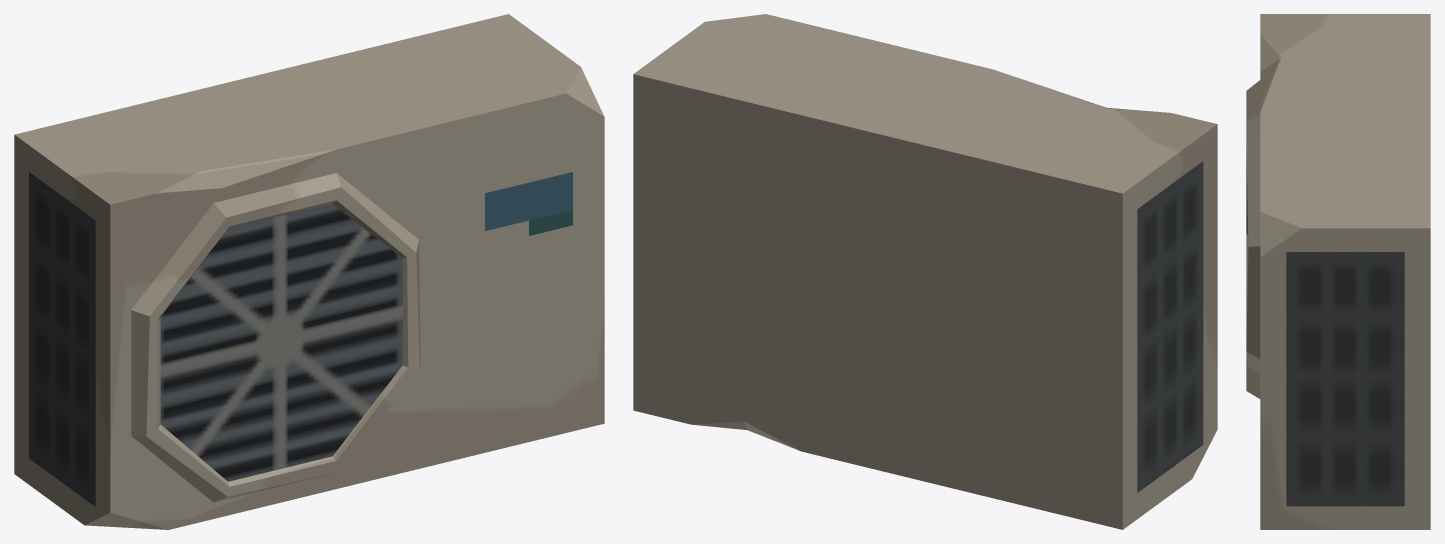
The model's file is SM_Prop_Airconditioner_02.fbx.
The picture shows the model from 3 angles, left to right: view 1: azimuth 30°, elevation 25°; view 2: azimuth 150°, elevation 25°; view 3: azimuth 270°, elevation 25°; orthographic projection. The views are drawn at different scales.
Parts seen in each view (by area): view 1: SM_Prop_Airconditioner_02; view 2: SM_Prop_Airconditioner_02; view 3: SM_Prop_Airconditioner_02.
Part boxes in pixels (x1=…): SM_Prop_Airconditioner_02: x1=14, y1=14, x2=604, y2=529; SM_Prop_Airconditioner_02: x1=633, y1=14, x2=1217, y2=529; SM_Prop_Airconditioner_02: x1=1246, y1=14, x2=1430, y2=529.
Bounding box in the file's own units: 107 × 70.52 × 39.02.
